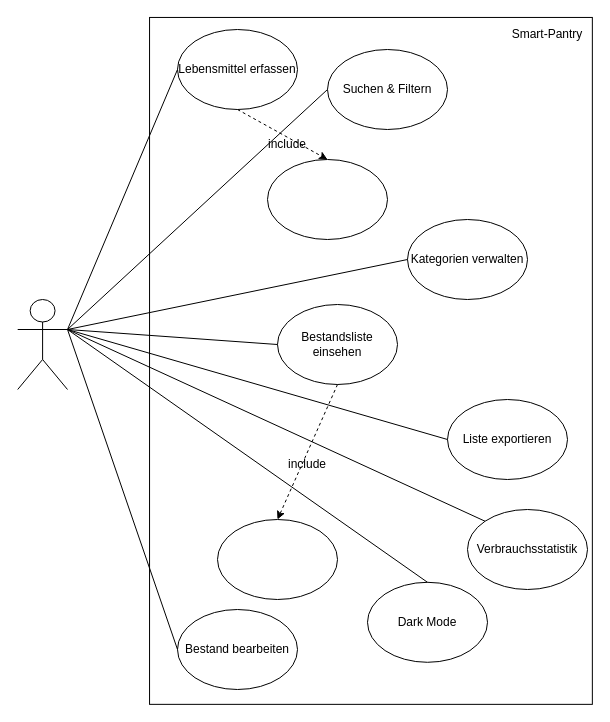
This 610x722 diagram has some shape labels left out. Each missing label, with the centre of its shape:
Ampelsystem-Farben: (x=277, y=559)
Bestände aggregieren: (x=327, y=199)
Nutzer: (x=42, y=344)
